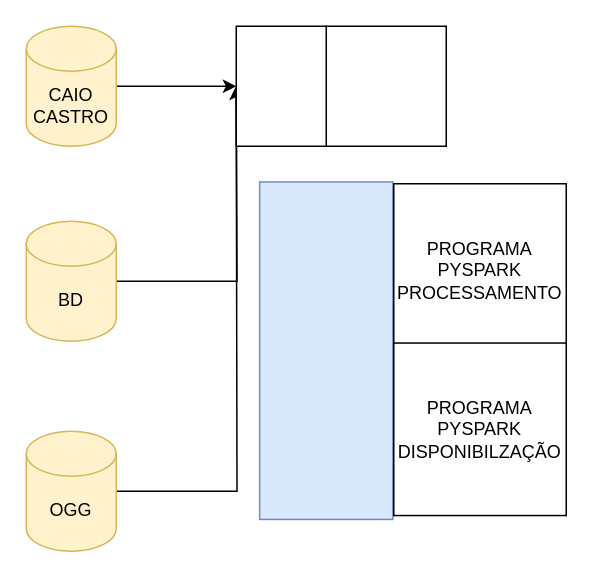
This 593x578 diagram has some shape labels left out. Each missing label, with the centre of its shape:
AIRFLOW: the point at 325,349
NIFI: the point at 280,85
PROGRAMA PYSPARK INGESTÃO: the point at 385,85
